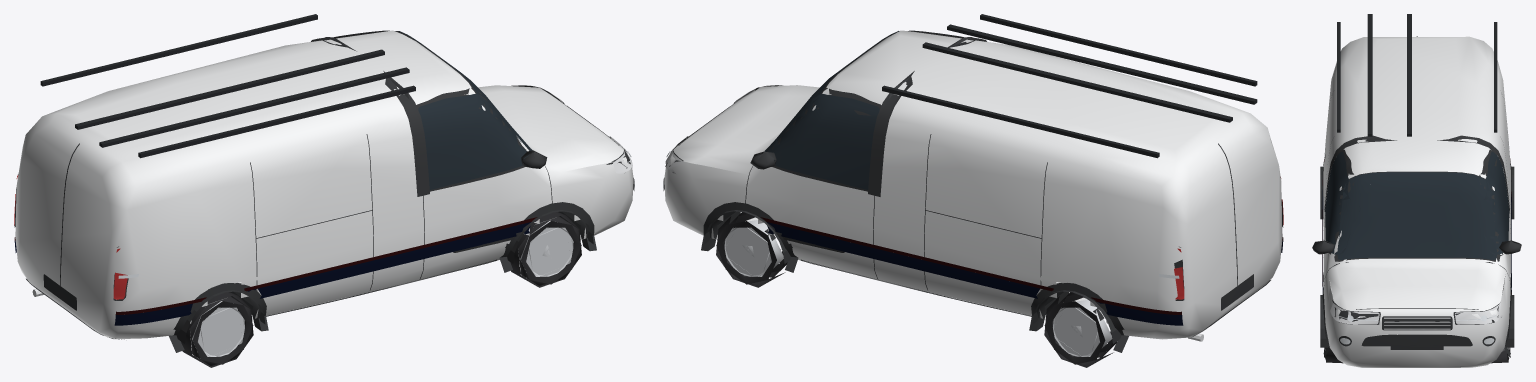
Rendered from pro_plomb_far.glb.
The picture shows the model from 3 angles, left to right: view 1: azimuth 30°, elevation 25°; view 2: azimuth 150°, elevation 25°; view 3: azimuth 270°, elevation 25°; orthographic projection. The views are drawn at different scales.
Parts seen in each view (by area): view 1: Body, Glass-1, ProStripe-1, WheelRR, WheelFR, LadderRail-1, LadderRail1, RackRail1, RackRail-1, Bpillar-1, ProAccent-1, ArchTrim-1.001 (+4 smaller); view 2: Body, Glass1, ProStripe1, WheelRL, WheelFL, LadderRail1, LadderRail-1, RackRail-1, RackRail1, Bpillar1, ProAccent1, ArchTrim1.001 (+4 smaller); view 3: Body, Windshield, Glass1, Glass-1, Intake, Grille, HeadReflector, LadderRail-1, WsFrame, LadderRail1, HeadBezel, RackRail1 (+10 smaller).
Part boxes in pixels (x1,y1,x2,y2): Body: (15,30,633,339); Glass-1: (418,93,531,189); ProStripe-1: (114,220,537,325); WheelRR: (181,292,253,367); WheelFR: (510,212,581,287); LadderRail-1: (99,67,409,147); LadderRail1: (75,49,384,129); RackRail1: (40,14,317,86); RackRail-1: (138,85,415,158); Bpillar-1: (383,71,429,196); ProAccent-1: (115,217,537,314); ArchTrim-1.001: (169,283,268,352); Body: (664,30,1282,339); Glass1: (765,93,879,189); ProStripe1: (767,222,1183,325); WheelRL: (1044,292,1116,367); WheelFL: (716,212,787,287); LadderRail1: (922,42,1232,122); LadderRail-1: (947,24,1257,104); RackRail-1: (980,14,1257,86); RackRail1: (882,85,1159,158); Bpillar1: (868,71,914,196); ProAccent1: (760,217,1181,314); ArchTrim1.001: (1029,283,1128,352); Body: (1323,36,1510,367); Windshield: (1337,172,1496,259); Glass1: (1483,151,1509,254); Glass-1: (1325,151,1360,254); Intake: (1361,334,1472,346); Grille: (1382,316,1452,330); HeadReflector: (1330,303,1502,324); LadderRail-1: (1367,14,1372,136); WsFrame: (1334,171,1500,261); LadderRail1: (1407,14,1411,136); HeadBezel: (1332,300,1501,324); RackRail1: (1494,22,1497,132).
Size of the model in its own units: 5.02 by 2.04 by 2.14.
